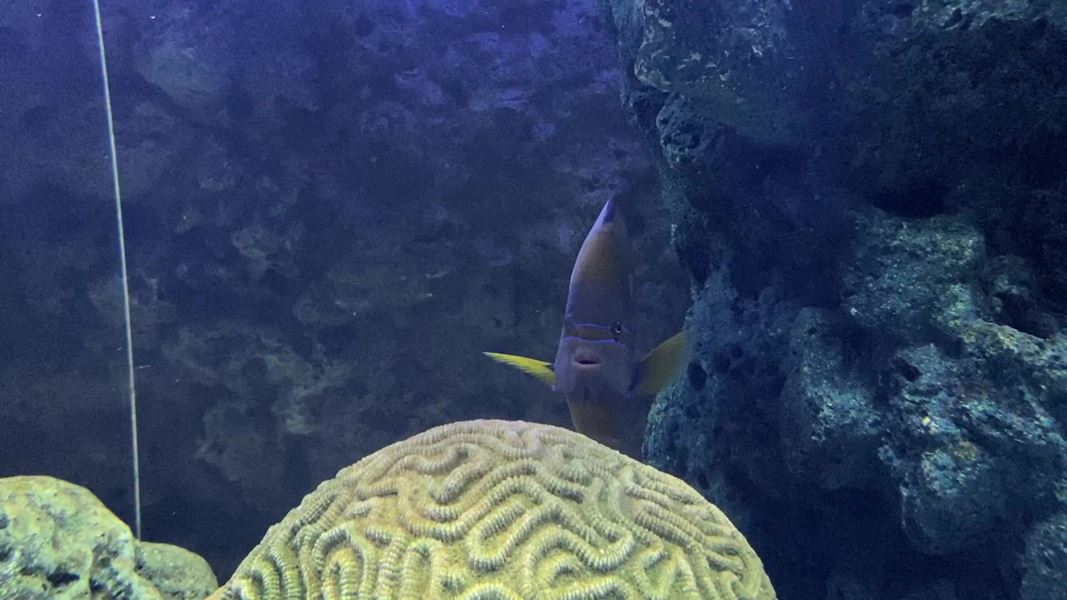Blue ring angelfish: (480, 185, 724, 466)
